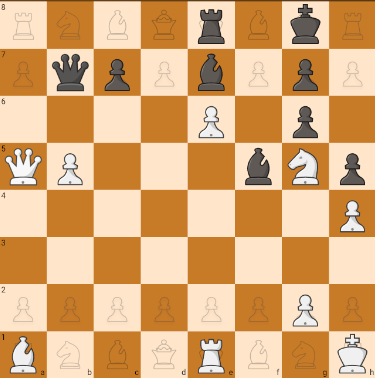bb: (190, 51, 231, 93), (241, 147, 278, 187)
bk: (283, 2, 327, 48)
bp: (95, 49, 137, 96), (289, 98, 324, 141), (289, 52, 324, 94), (339, 148, 368, 190)
bq: (47, 52, 92, 93)
br: (190, 6, 232, 46)
wk: (331, 331, 374, 376)
wn: (286, 146, 323, 187)
wp: (51, 147, 91, 188), (191, 103, 231, 141), (335, 194, 371, 234)
wq: (1, 142, 45, 188), (2, 334, 45, 376)
wr: (189, 333, 233, 376), (289, 289, 322, 330)
